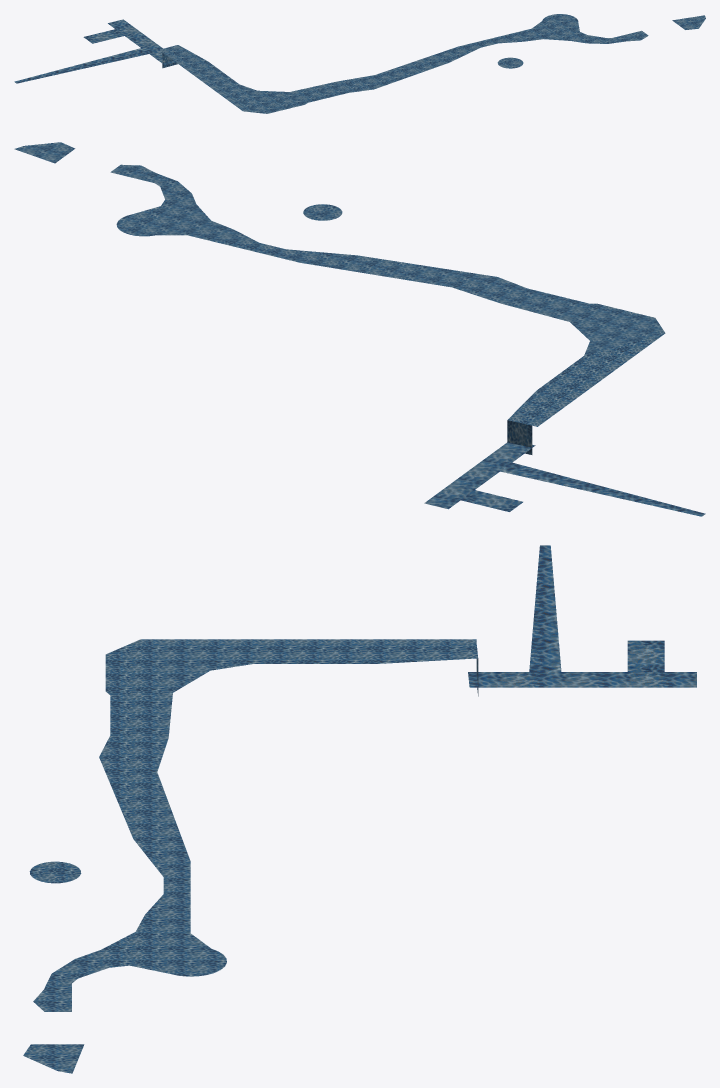
The model's file is park_water.FBX.
3 views of the same model, one above another, from view 1: azimuth 30°, elevation 25°; view 2: azimuth 150°, elevation 25°; view 3: azimuth 270°, elevation 25° (orthographic). The views are drawn at different scales.
Visible parts, largest first — view 1: park_water; view 2: park_water; view 3: park_water.
Boxes of the visible parts, box(x1,y1,x2,y2) form: park_water: box(14, 14, 705, 113); park_water: box(14, 142, 705, 516); park_water: box(23, 545, 696, 1073).
Bounding box in the file's own units: 8182 × 4179 × 316.
